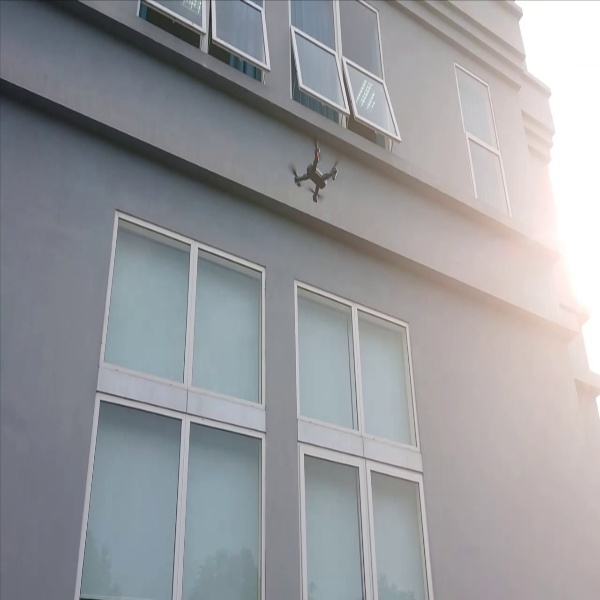drone: (283, 133, 345, 208)
